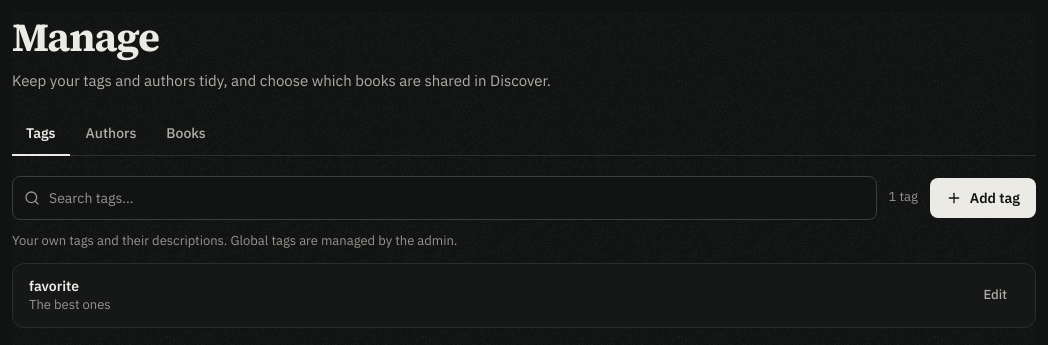
ManagePage › shows cloned global author identities as read-only known authors
The width and height of the screenshot is (1048, 345).
Click the tab "Authors" at [111, 134], box [72, 112, 150, 156]
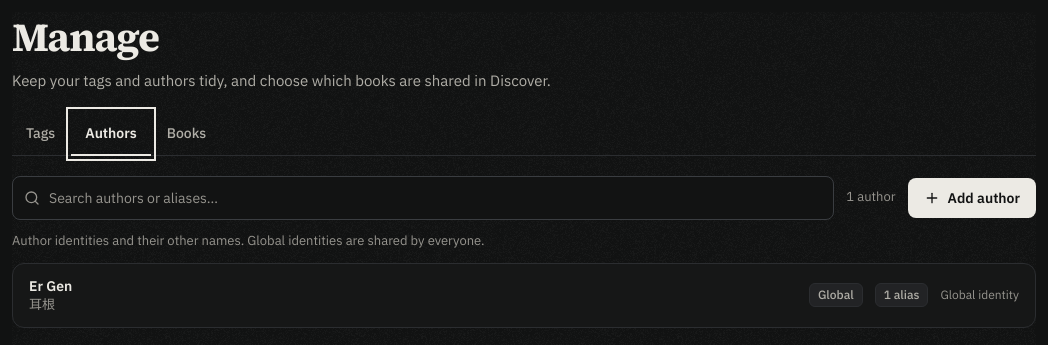
Expected: the text "Global" is shown, [809, 283, 863, 307]
Expected: the text "Global identity" is shown, [940, 287, 1019, 303]
